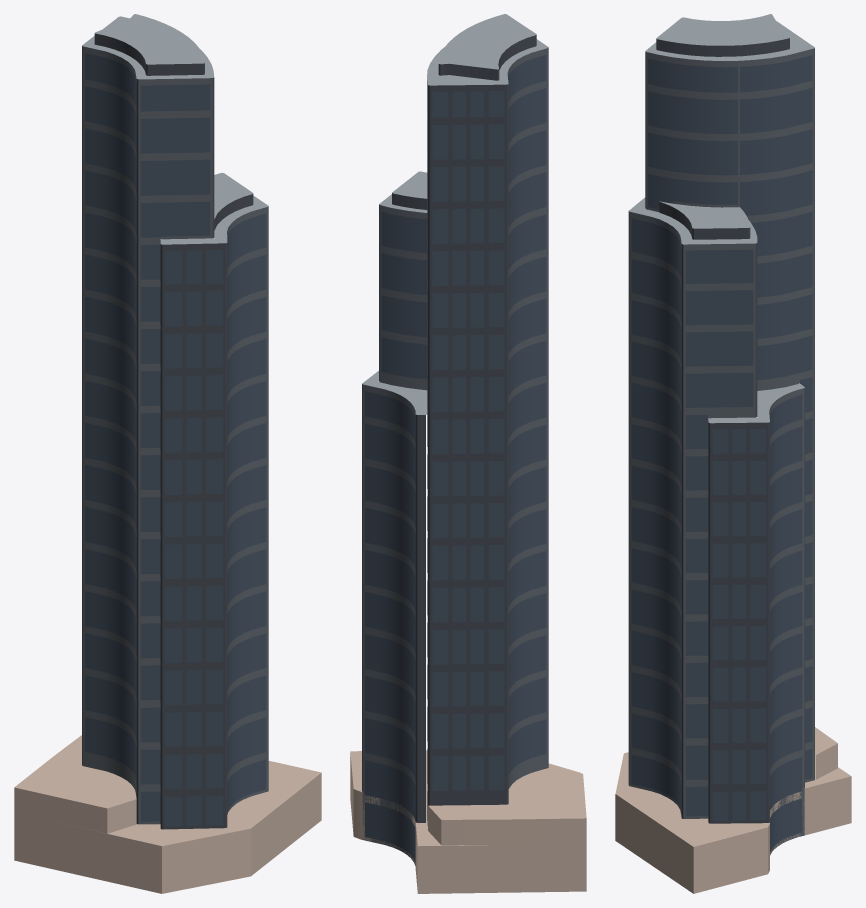
File: sea-columbia-center.glb
3 views of the same model, side by side, from view 1: azimuth 30°, elevation 25°; view 2: azimuth 150°, elevation 25°; view 3: azimuth 270°, elevation 25° (orthographic).
Visible parts, largest first — view 1: Columbia Center; view 2: Columbia Center; view 3: Columbia Center.
Boxes of the visible parts, box(x1,y1,x2,y2) form: Columbia Center: box(14, 14, 321, 893); Columbia Center: box(350, 14, 586, 893); Columbia Center: box(615, 14, 851, 893).
Size of the model in its own units: 101 by 286 by 77.45.
